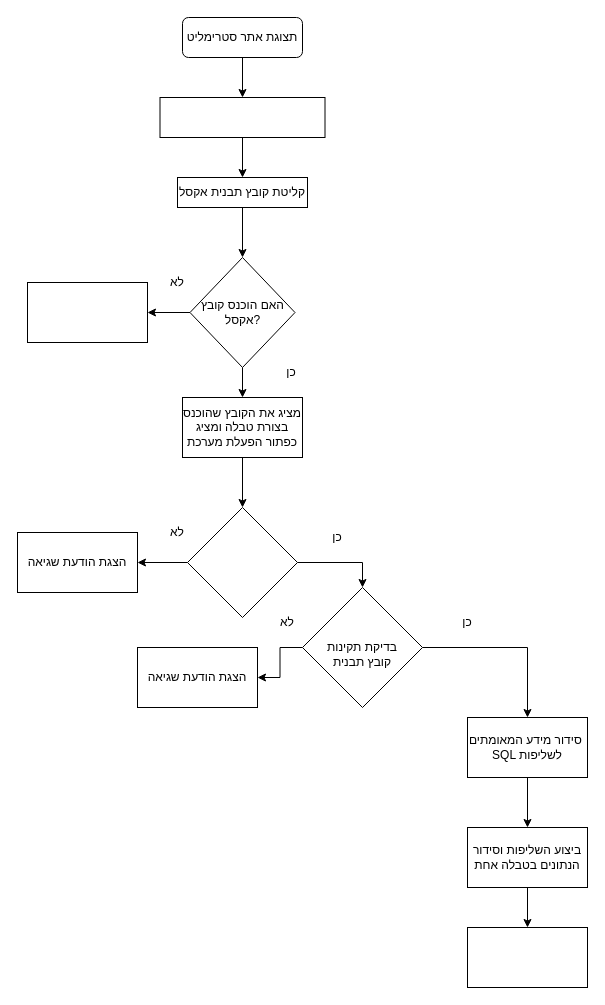
Some shapes in this 605 by 1005 pixel diagram are drawn without their labels. The shapes that lost their labels are listed below. From the top down, each one's centre as x and y in pixels, then its label:
(x=242, y=117): קליטת פרמטרים להגדרת שליפת הנתונים הרצויים
(x=87, y=312): מציג הודעת שגיאה אם לא מוכנס קובץ אקסל
(x=242, y=562): בדיקת זמינות מערכת
(x=527, y=957): יצוא הנתונים לקובץ אקסל והצגת לינק להורדתו
